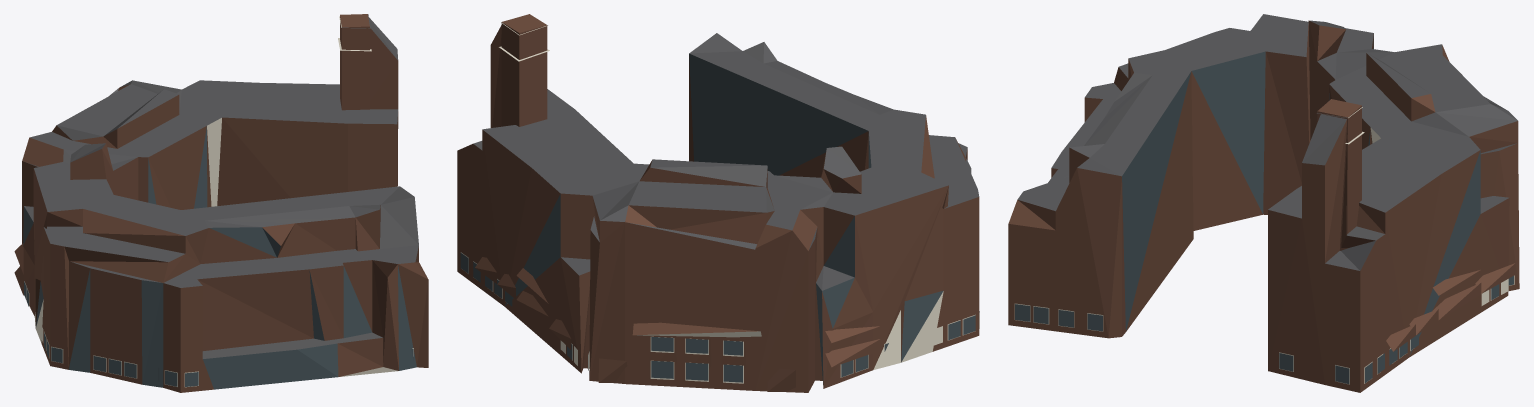
The model's file is het-nieuwe-huis.lod2.glb.
The picture shows the model from 3 angles, left to right: view 1: azimuth 30°, elevation 25°; view 2: azimuth 150°, elevation 25°; view 3: azimuth 270°, elevation 25°; orthographic projection. The views are drawn at different scales.
Parts seen in each view (by area): view 1: lod2; view 2: lod2; view 3: lod2.
Boxes of the visible parts, x1,y1,x2,y2 form: lod2: [14, 14, 428, 392]; lod2: [457, 14, 979, 392]; lod2: [1008, 14, 1519, 392].
Size of the model in its own units: 73.75 by 39.2 by 70.77.
